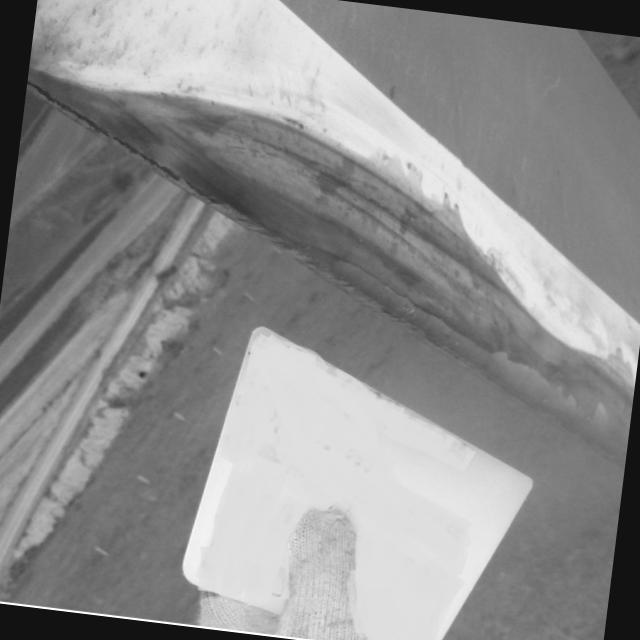crack: (33, 62, 390, 262), (378, 214, 634, 429)
